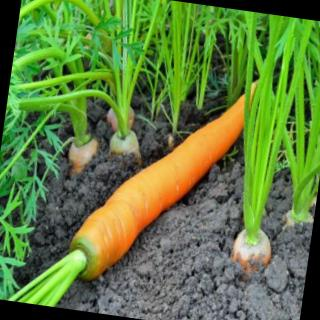Wortel: (64, 76, 247, 302)
